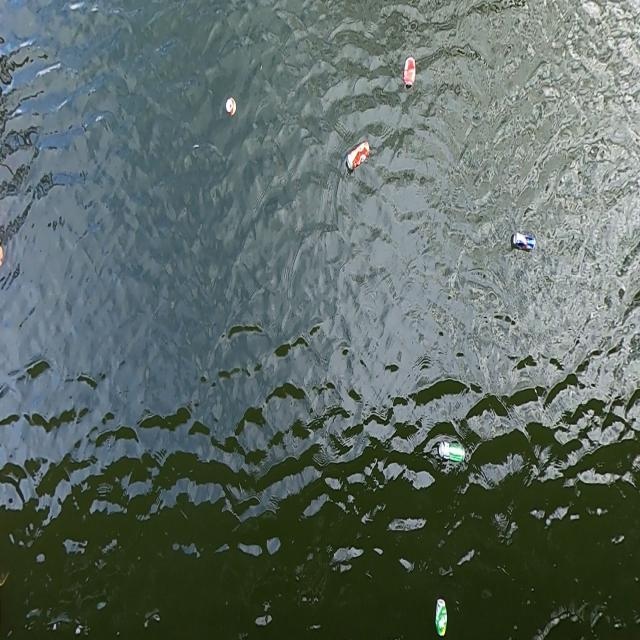Non plastique: (435, 439, 471, 469), (344, 140, 374, 174), (510, 225, 540, 257), (435, 591, 451, 640), (400, 54, 420, 92), (223, 96, 240, 120)
